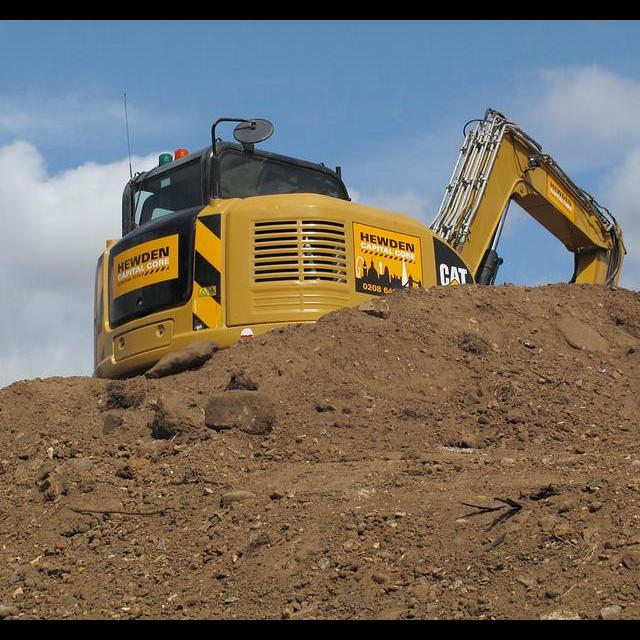Excavator: (93, 107, 627, 393)
